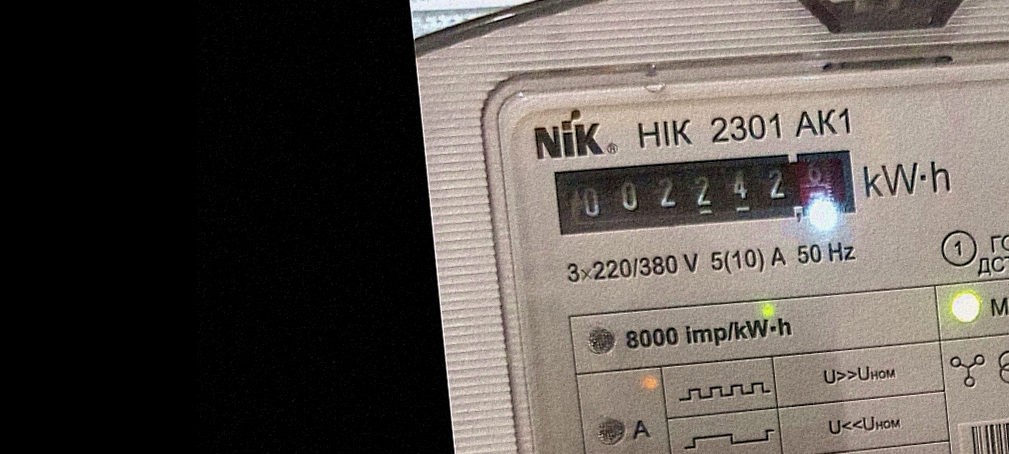0: (581, 184, 604, 219), (619, 178, 640, 213)
2: (693, 172, 714, 208), (657, 175, 679, 209), (767, 167, 787, 200)
4: (731, 167, 750, 201)
6: (806, 158, 824, 186)
screen: (543, 131, 868, 252)
